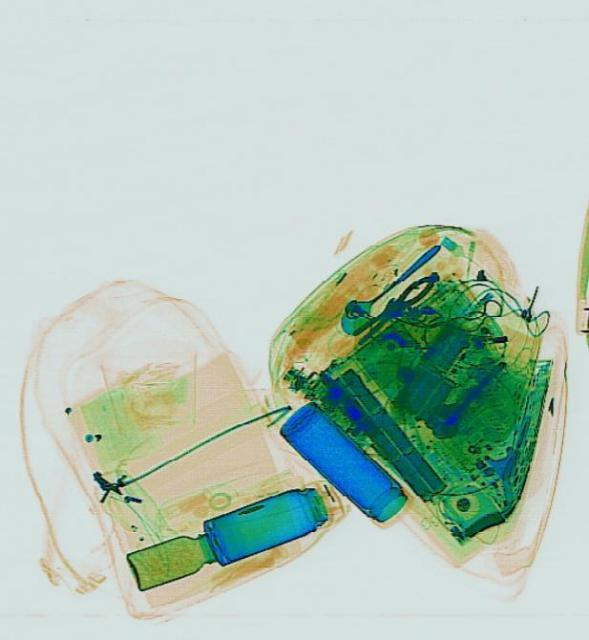Pliers: (345, 266, 439, 346)
